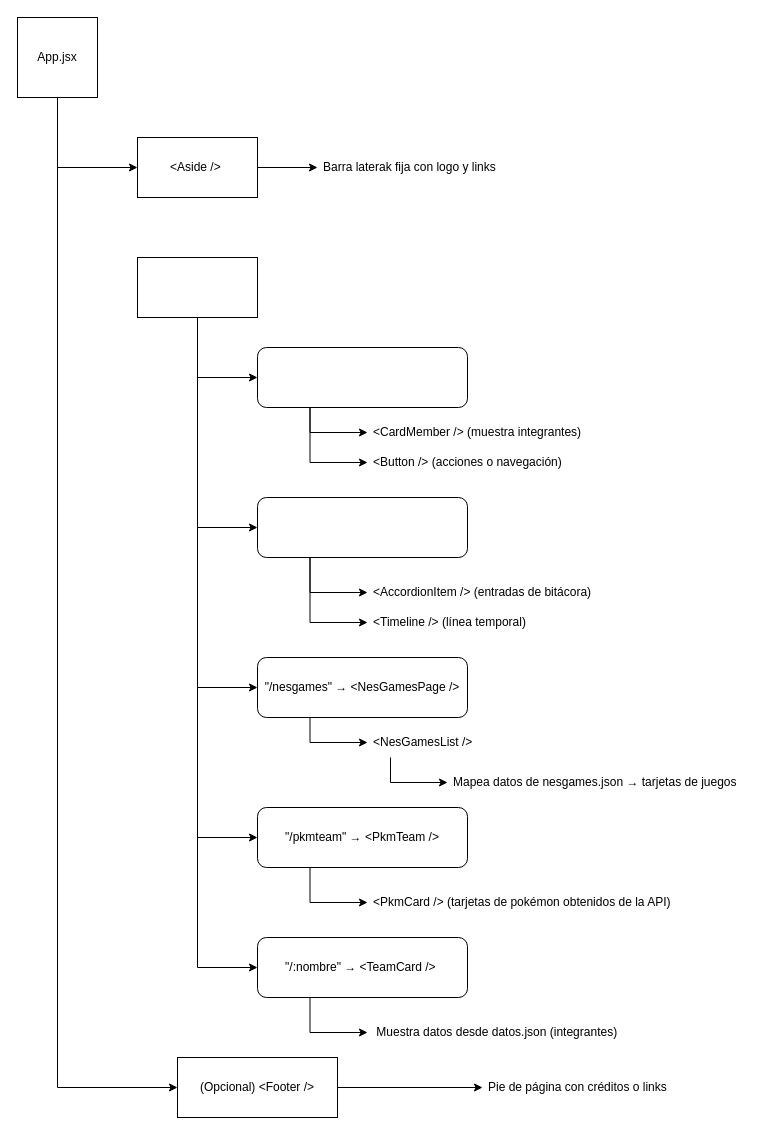
Image size: 765x1135. Some labels were removed from this diagram. The shapes that lost their labels are listed below. From the top down, each one's box as (x1, y1, x2, y2) in pixels, then its label:
(136, 256, 258, 318): <Routes>
(256, 346, 468, 408): "/" → <Home />
(256, 496, 468, 558): "/bitacora" → <BitacoraPage />
